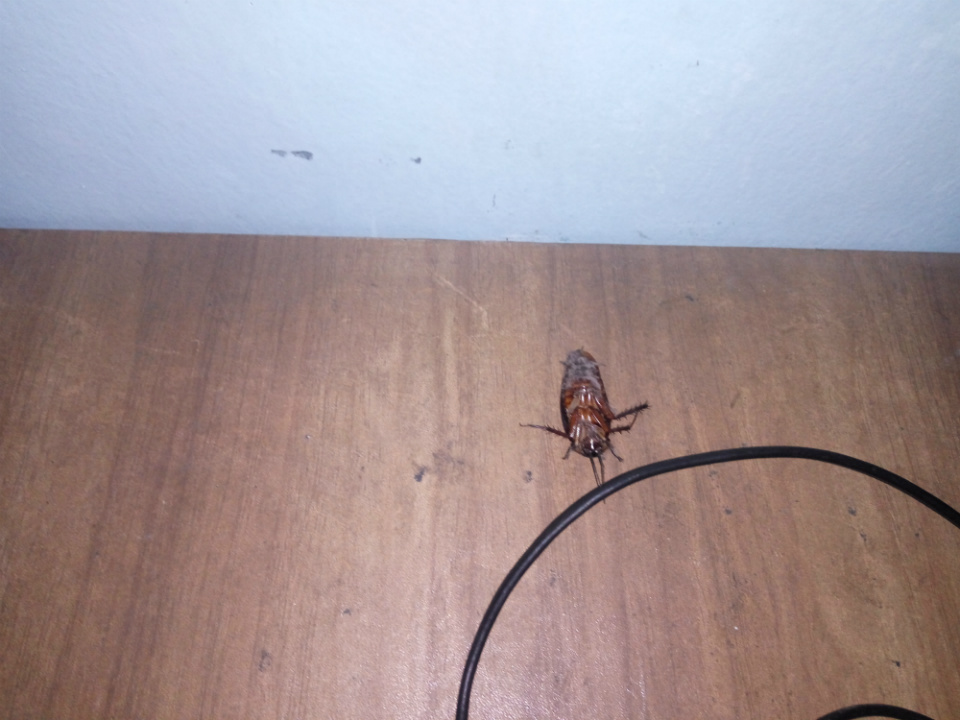cockroach: (508, 305, 654, 477)
